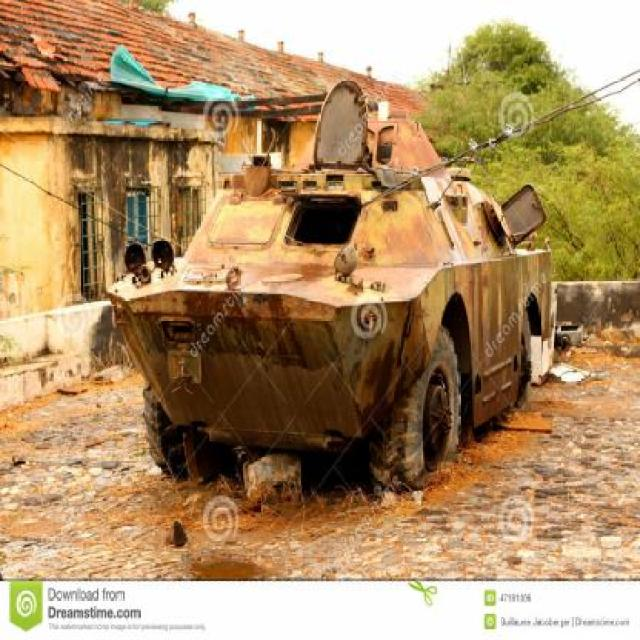corrosion: (110, 79, 561, 478)
